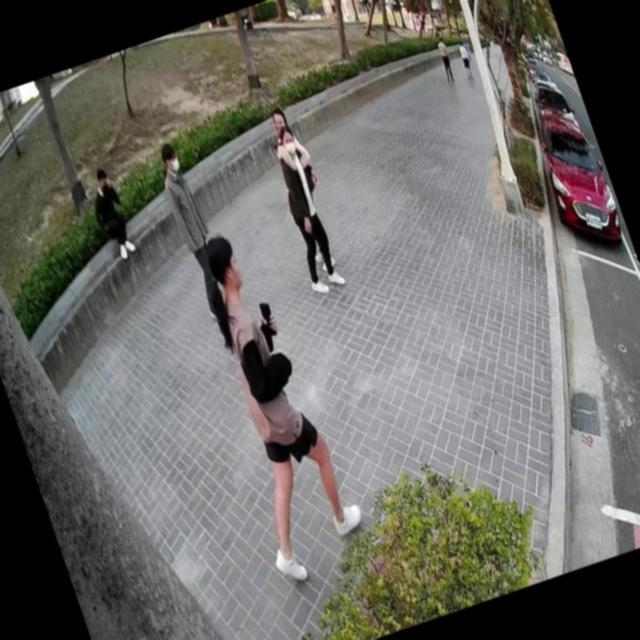person: (160, 212, 380, 592), (256, 115, 354, 299), (143, 133, 236, 320), (259, 96, 348, 276), (78, 162, 140, 264), (430, 30, 460, 86), (450, 32, 480, 87)
